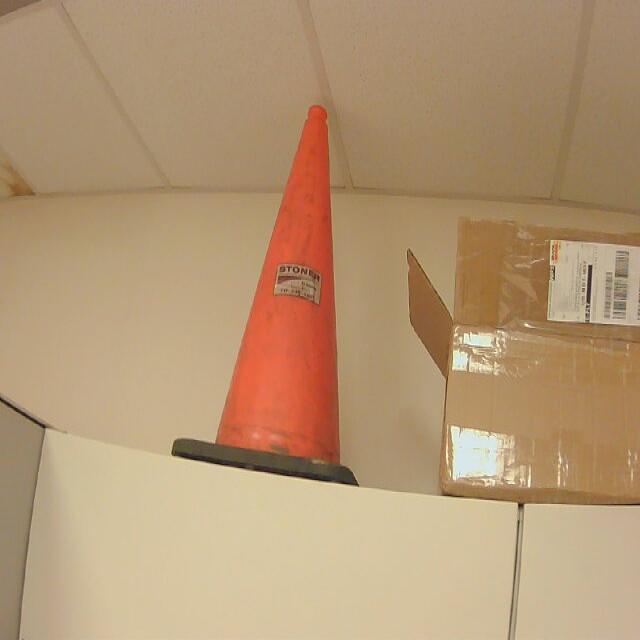traffic cone: (172, 105, 359, 488)
